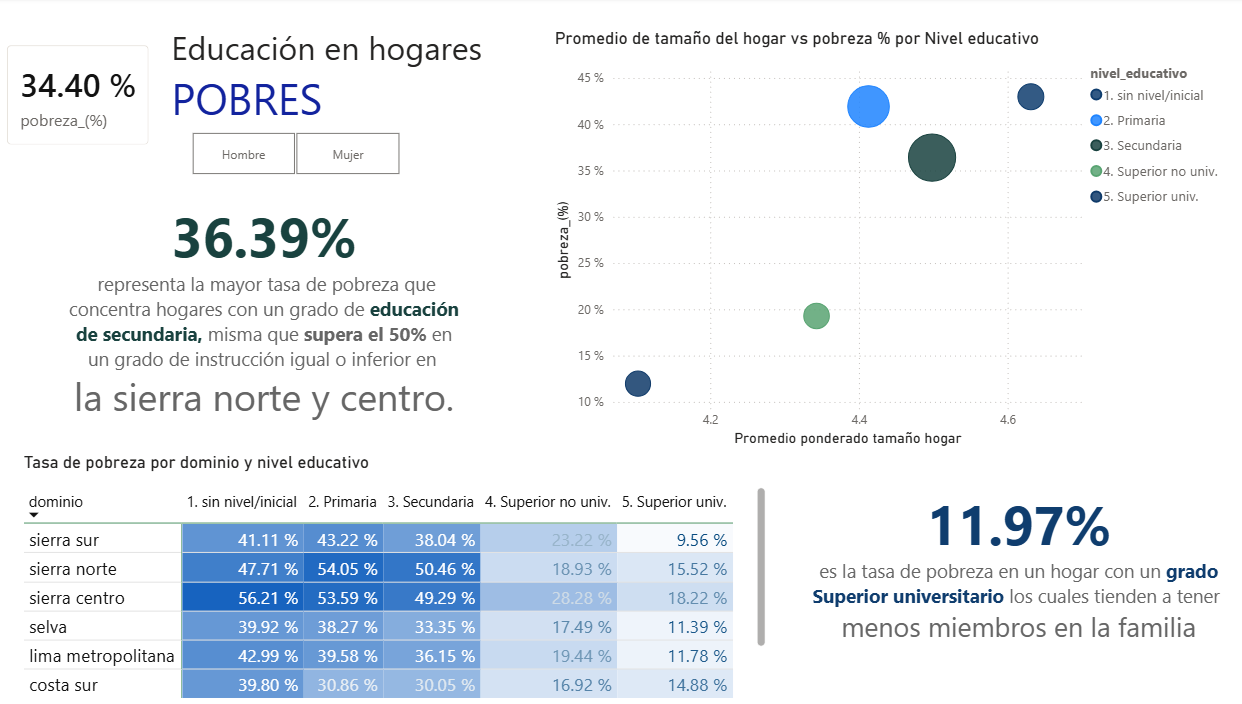

The page's visual inventory and layout, read from the dashboard file:
{"tool":"powerbi","page":{"name":"Sobre el Hogar","canvas":[1280,720],"ordinal":1},"visuals":[{"type":"scatterChart","title":"Promedio de tamaño del hogar vs pobreza % por Nivel educativo","fields":{"Series":["ENAHO.nivel_edu"],"Size":["ENAHO.Población expandida"],"X":["ENAHO.Promedio ponderado tamaño hogar"],"Y":["ENAHO.pobreza_(%)"]},"box":[557.1,31.4,678.6,421.4],"z":0},{"type":"textbox","box":[175,23.3,383.3,125],"z":1000},{"type":"cardVisual","fields":{"Data":["ENAHO.pobreza_(%)"]},"box":[0,31.1,175.4,133.1],"z":2000},{"type":"slicer","fields":{"Values":["ENAHO.sexo_jefe"]},"box":[175,128.3,255.8,55.4],"z":3000},{"type":"pivotTable","title":"Tasa de pobreza por dominio y nivel educativo","fields":{"Columns":["ENAHO.nivel_edu"],"Rows":["ENAHO.dominio"],"Values":["ENAHO.pobreza_(%)"]},"box":[28.3,453.3,748.3,250],"z":4000},{"type":"textbox","box":[68.6,197.1,408.6,255.7],"z":5000},{"type":"textbox","box":[812.9,482.9,422.9,191.4],"z":6000}]}

Visuals, with their boxes in screenshot pixels (x1, y1, x2, y2), scaled from the page's 1280x720 canvas onto the 1242x704 screenshot:
"Promedio de tamaño del hogar vs pobreza % por Nivel educativo" scatterChart: l=541, t=31, r=1199, b=443
textbox: l=170, t=23, r=542, b=145
cardVisual - ENAHO.pobreza_(%): l=0, t=30, r=170, b=161
slicer - ENAHO.sexo_jefe: l=170, t=125, r=418, b=180
"Tasa de pobreza por dominio y nivel educativo" pivotTable: l=27, t=443, r=754, b=688
textbox: l=67, t=193, r=463, b=443
textbox: l=789, t=472, r=1199, b=659
